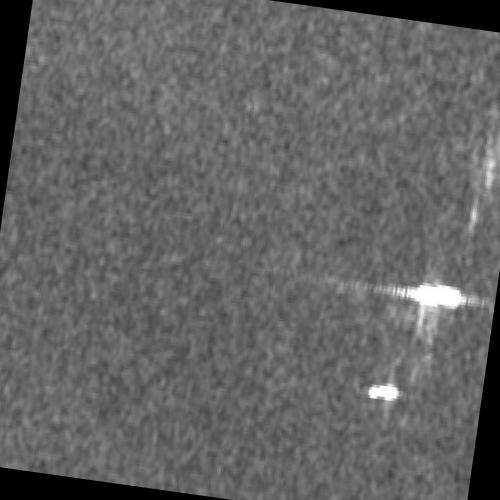ship: (410, 282, 467, 310), (367, 383, 400, 401)
